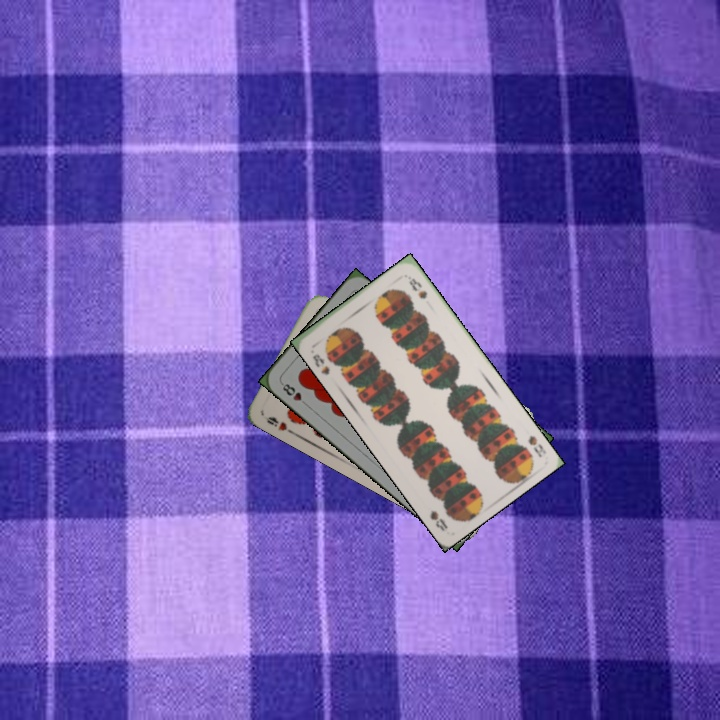H8: (277, 379, 311, 409)
H9: (261, 412, 298, 437)
S8: (524, 431, 549, 460), (308, 350, 332, 378)
